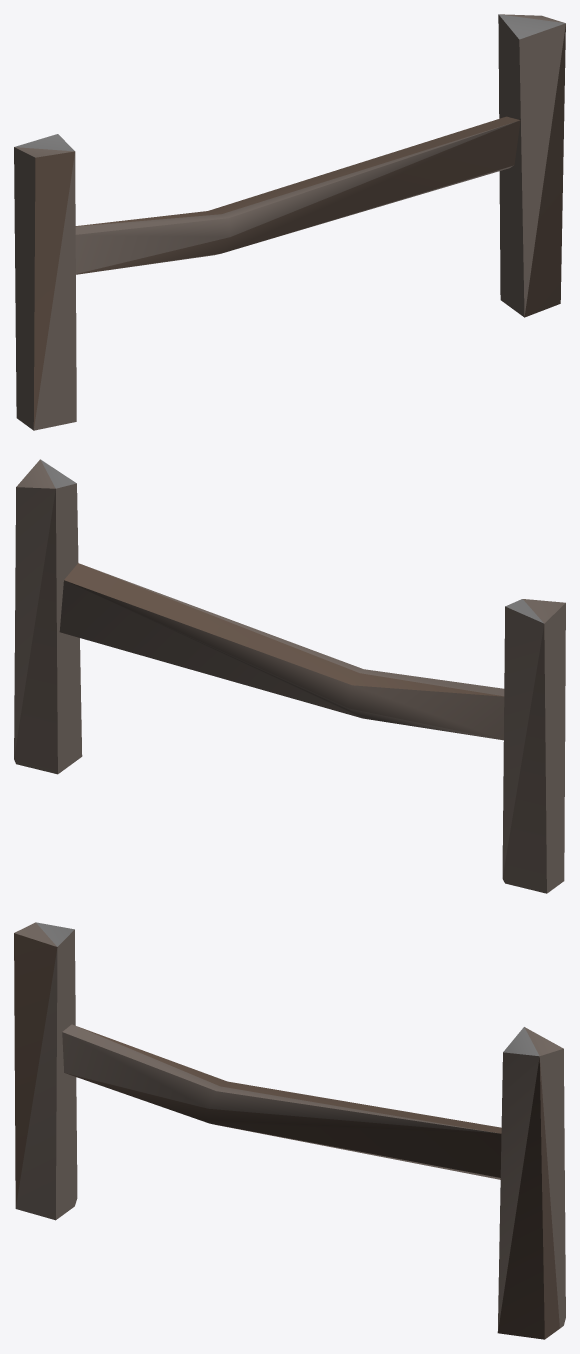
Rendered from Fence 4.fbx.
3 renders of one model, top to bottom at view 1: azimuth 30°, elevation 25°; view 2: azimuth 150°, elevation 25°; view 3: azimuth 330°, elevation 25°, orthographic.
Visible parts, largest first — view 1: pasted__Fence2; view 2: pasted__Fence2; view 3: pasted__Fence2.
Part boxes in pixels (bbox=[...]): pasted__Fence2: bbox=[14, 14, 565, 430]; pasted__Fence2: bbox=[14, 459, 565, 893]; pasted__Fence2: bbox=[14, 922, 565, 1339].
Bounding box in the file's own units: 23.78 × 12.29 × 2.57.
